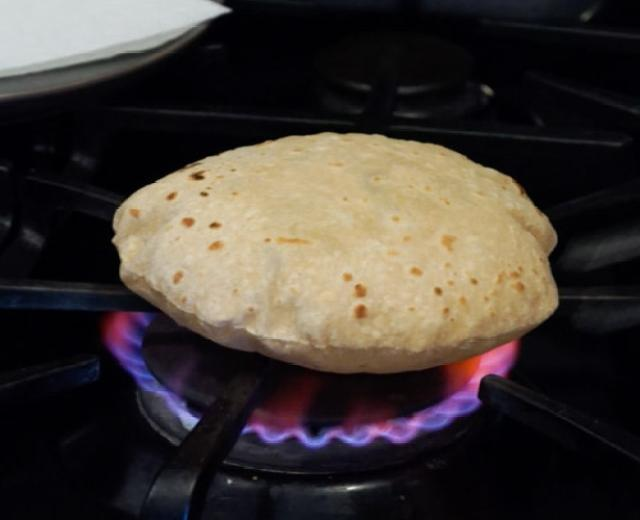chapati: (114, 134, 557, 372)
